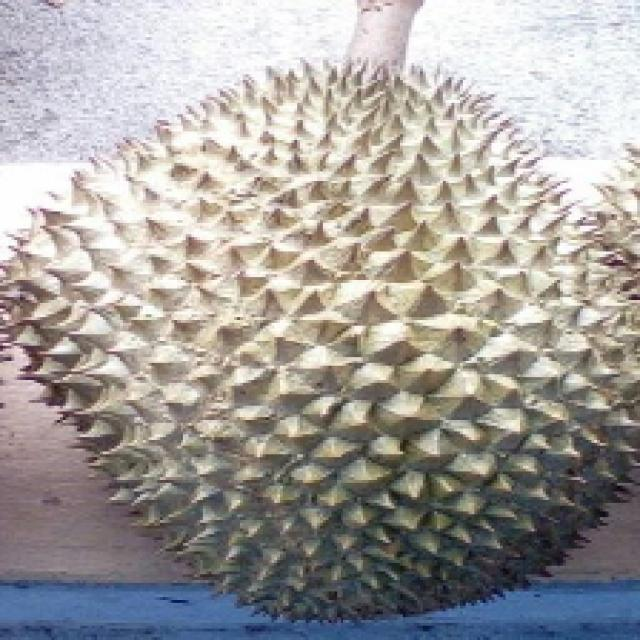d2: (48, 4, 630, 604)
